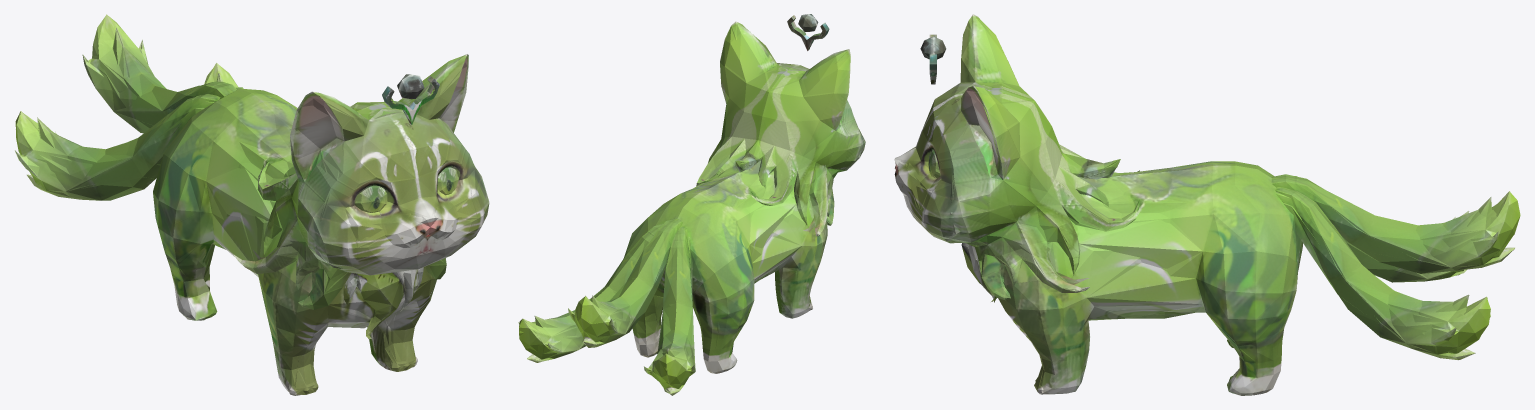
The model's file is cat_grass.glb.
3 renders of one model, left to right at view 1: azimuth 30°, elevation 25°; view 2: azimuth 150°, elevation 25°; view 3: azimuth 270°, elevation 25°, orthographic. The views are drawn at different scales.
Bounding box in the file's own units: 0.756 × 1.06 × 1.8.
1 material, 1 textured.
